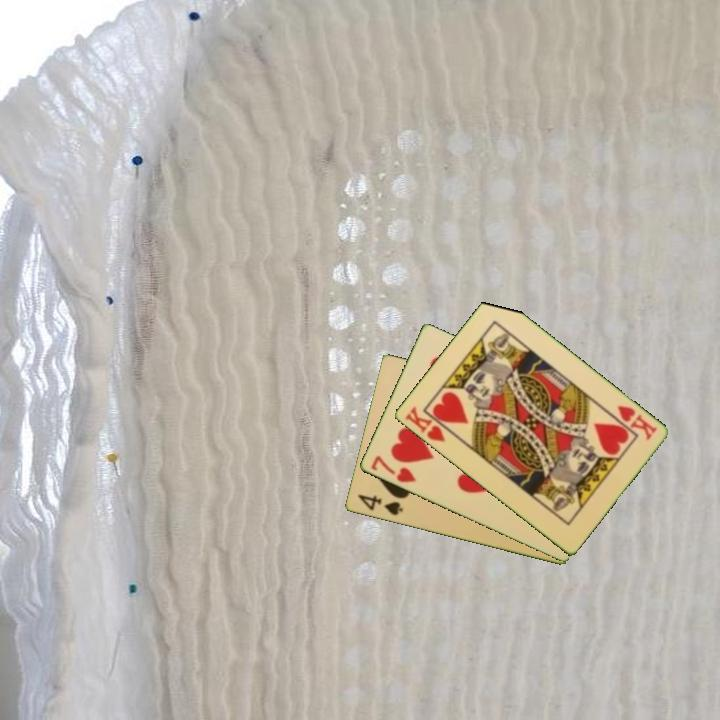4s: (354, 491, 406, 518)
7h: (367, 452, 419, 486)
Kh: (401, 402, 456, 445), (613, 402, 660, 444)
